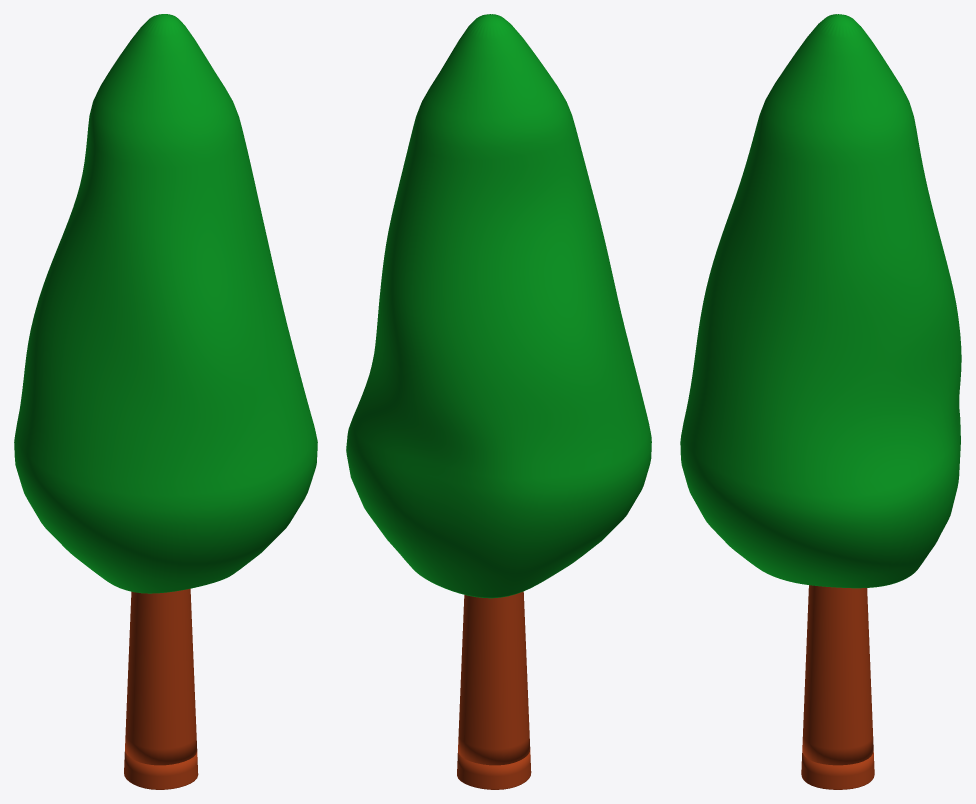
Rendered from Tree1Q.fbx.
3 renders of one model, left to right at view 1: azimuth 30°, elevation 25°; view 2: azimuth 150°, elevation 25°; view 3: azimuth 270°, elevation 25°, orthographic.
Visible parts, largest first — view 1: Cylinder, Cube; view 2: Cylinder, Cube; view 3: Cylinder, Cube.
Boxes of the visible parts, x1,y1,x2,y2 form: Cylinder: (14,14,317,765); Cube: (124,751,198,789); Cylinder: (346,14,651,765); Cube: (457,750,531,789); Cylinder: (680,14,961,765); Cube: (801,751,874,789).
Bounding box in the file's own units: 563 × 1523 × 510.
